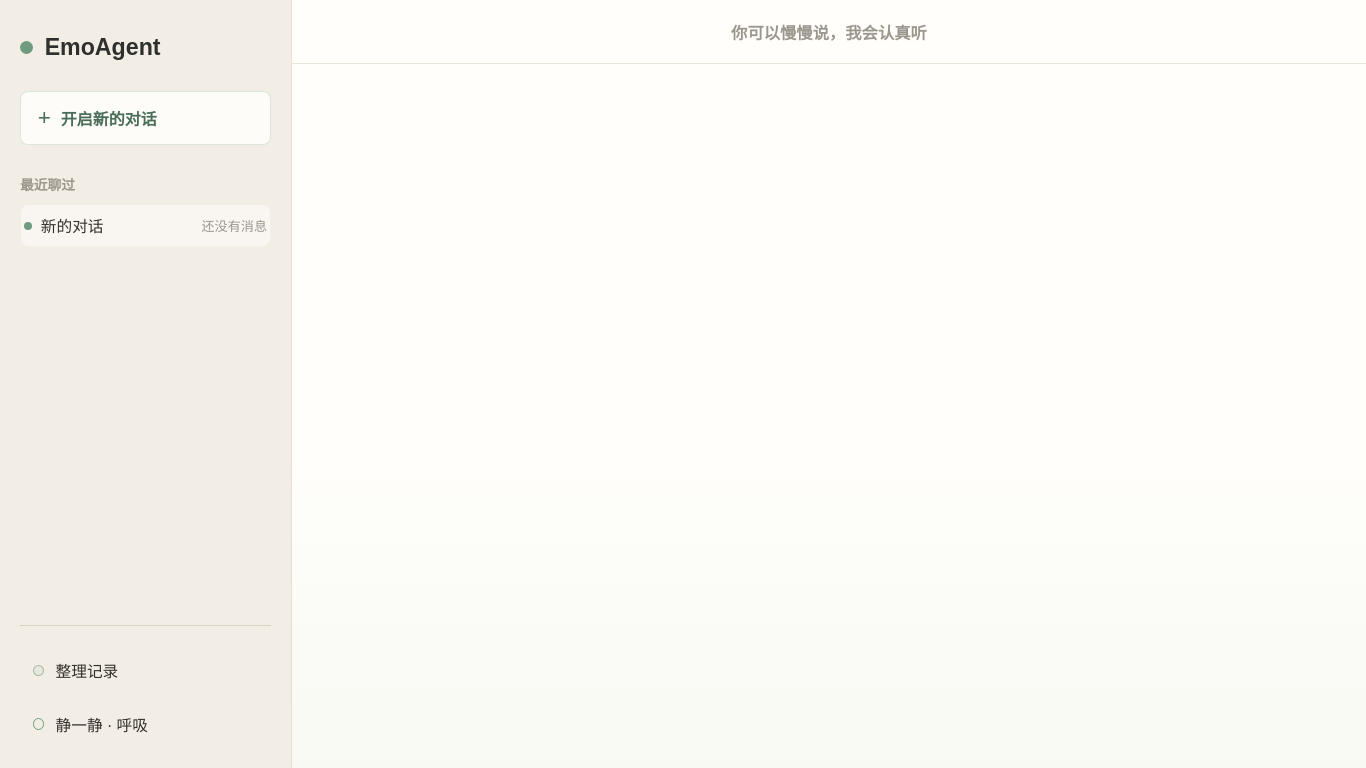
Test: student screenshot-style information architecture › uses record management as the only destructive memory action
Check: the text "最近聊过" is shown, box [20,178,75,193]
What coordinates should you click on to do the following:
click the button "整理记录"
I would click on:
 (146, 670)
Its box is [20,648,271,693].
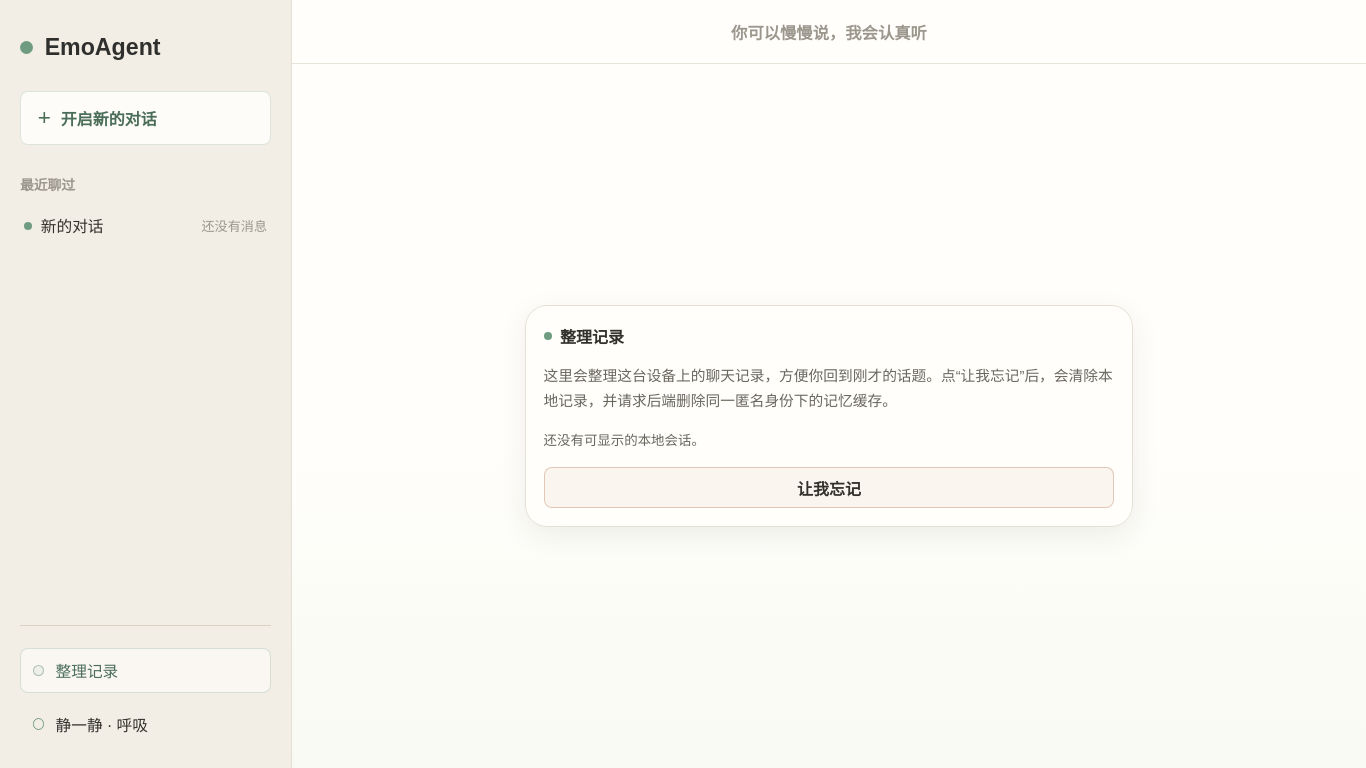
Check: the heading "整理记录" is shown, box [560,324,624,348]
Check: the text "这里会整理这台设备上的聊天记录，方便你回到刚才的话题。点“让我忘记”后，会清除本地记录，并请求后端删除同一匿名身份下的记忆缓存。" is shown, box [544,364,1114,414]
Check: the button "让我忘记" is shown, box [544,467,1114,508]
